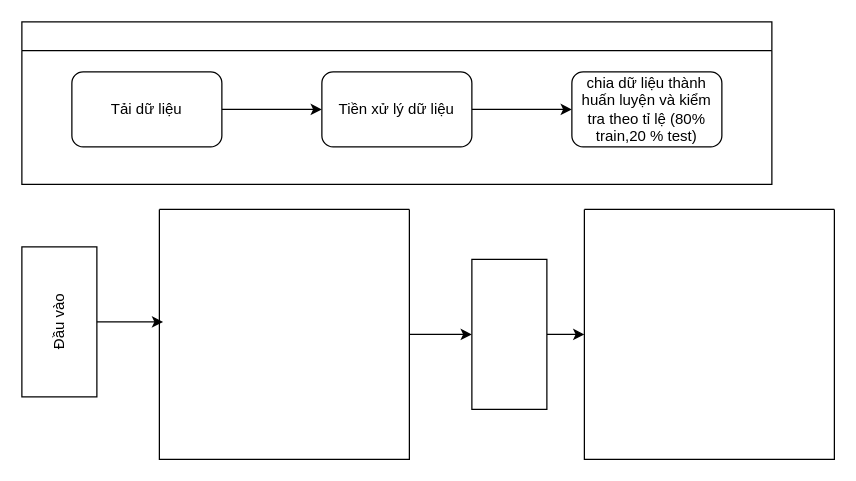
This 856x481 diagram has some shape labels left out. Each missing label, with the box of its shape:
không gian tiềm ẩn: (471, 258, 547, 409)
Tiền xử lý: (21, 21, 772, 184)
